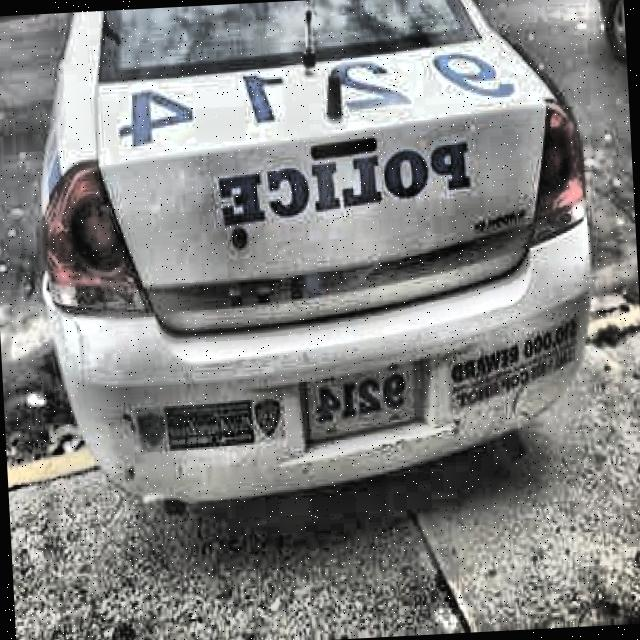license_plate: (302, 362, 423, 445)
